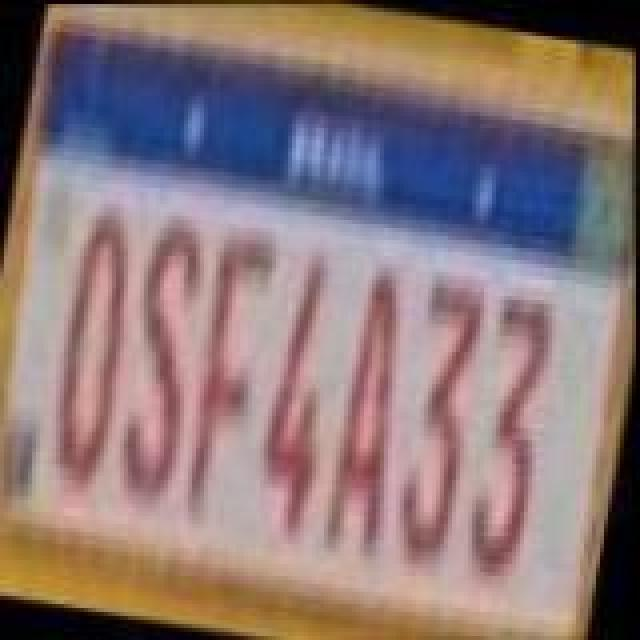3: (382, 266, 502, 566), (450, 284, 570, 576)
4: (242, 246, 362, 542)
A: (318, 260, 430, 560)
F: (166, 226, 290, 534)
O: (36, 206, 148, 490)
S: (100, 216, 220, 508)
